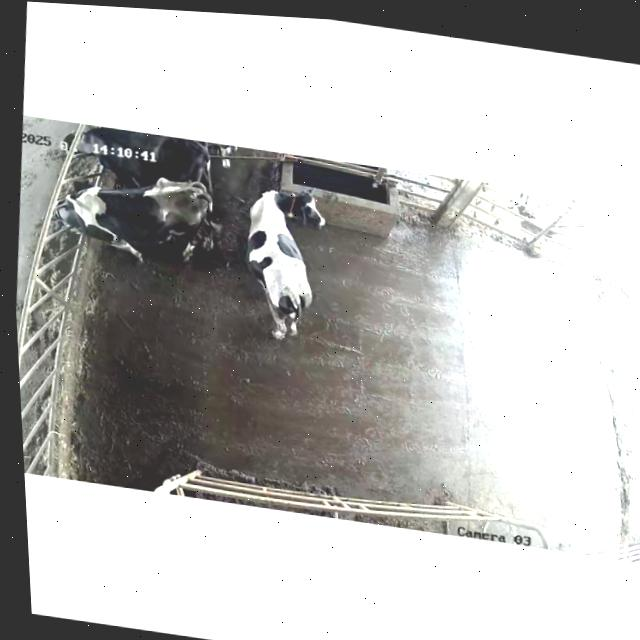stand: (232, 176, 354, 355)
